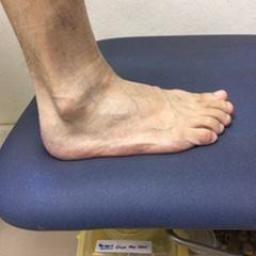Lateral View -Right Foot-: (16, 45, 242, 164)
